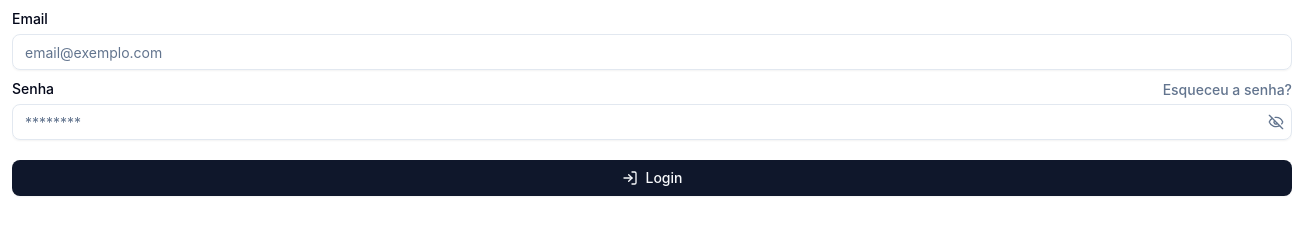
Test: Laravel login form › keeps the user on the login page after failure
In the field labelled "Email": (652, 52) [12, 34, 1292, 70], type "manager@example.test"
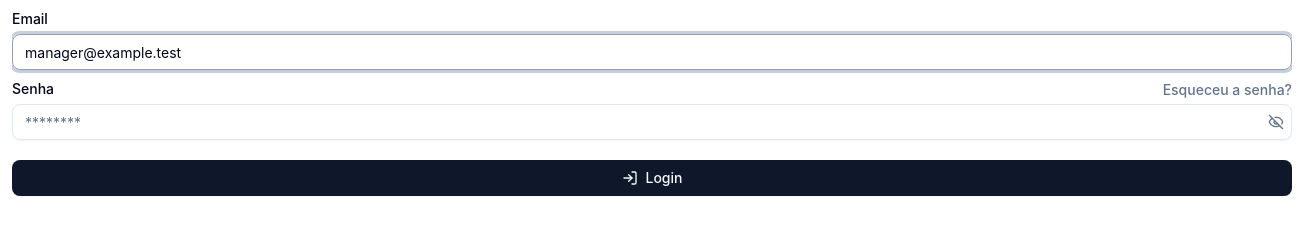
In the password field labelled "Senha": (652, 122) [12, 104, 1292, 140], type "test-password"
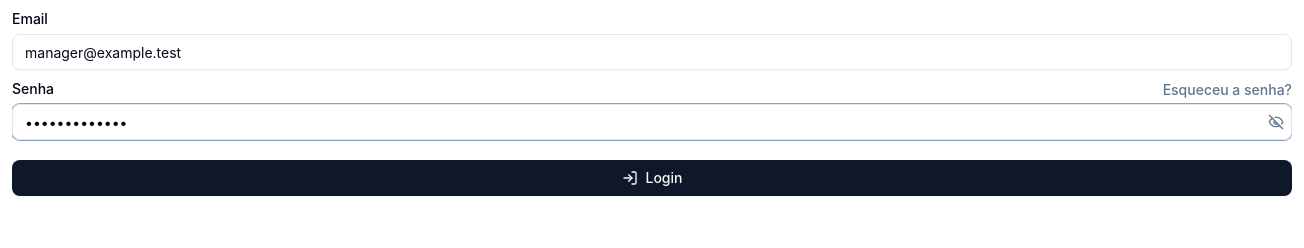
Click the button "Login": (652, 178) [12, 160, 1292, 196]
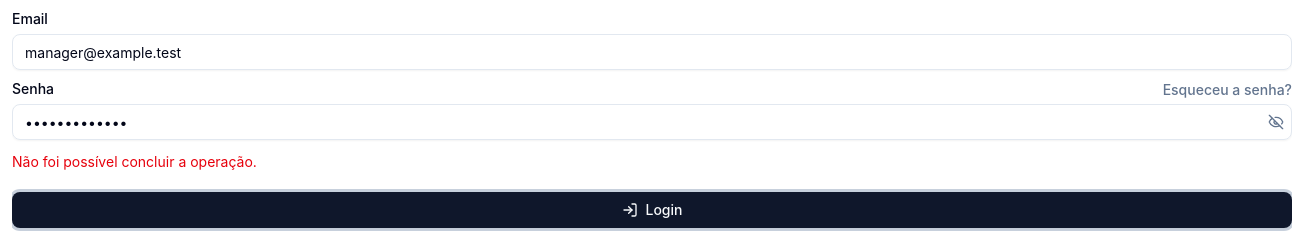
Expected: the message "Não foi possível concluir a operação." is shown, [12, 153, 257, 170]
